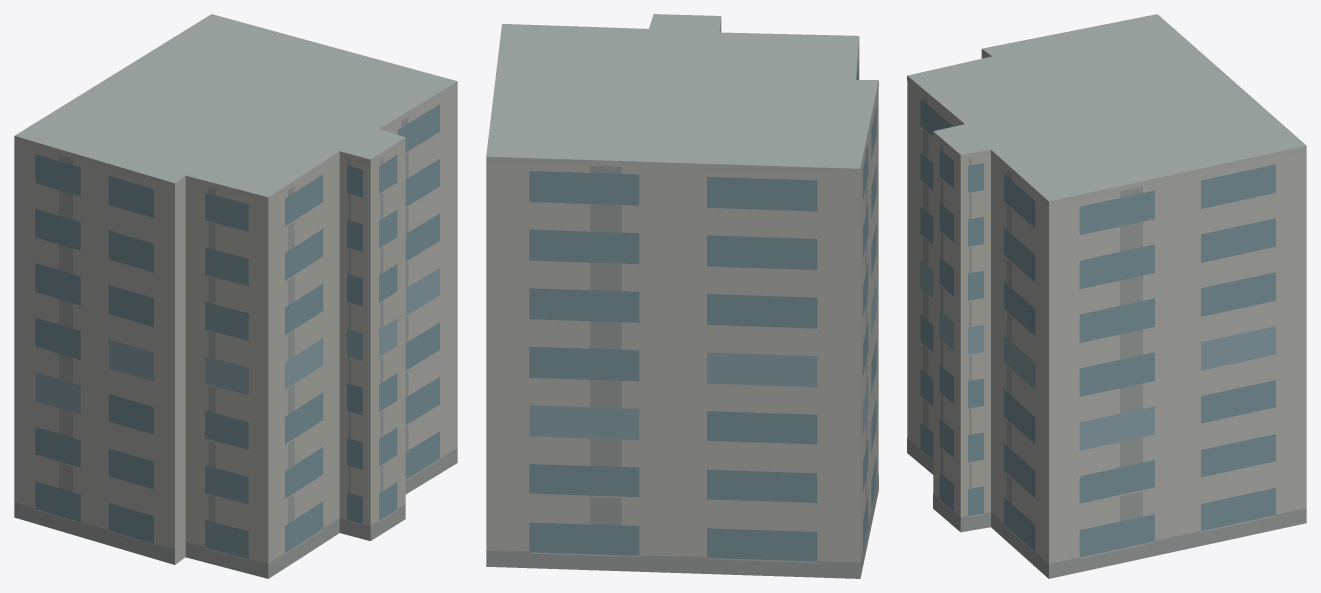
File: survey-upis-32754036.glb
3 views of the same model, side by side, from view 1: azimuth 30°, elevation 25°; view 2: azimuth 150°, elevation 25°; view 3: azimuth 270°, elevation 25° (orthographic). The views are drawn at different scales.
Visible parts, largest first — view 1: survey-upis-32754036.tmp; view 2: survey-upis-32754036.tmp; view 3: survey-upis-32754036.tmp.
Part boxes in pixels (x1,y1,x2,y2): survey-upis-32754036.tmp: (14, 14, 457, 578); survey-upis-32754036.tmp: (486, 14, 878, 578); survey-upis-32754036.tmp: (907, 14, 1306, 578).
Bounding box in the file's own units: 18.12 × 17 × 16.32.
